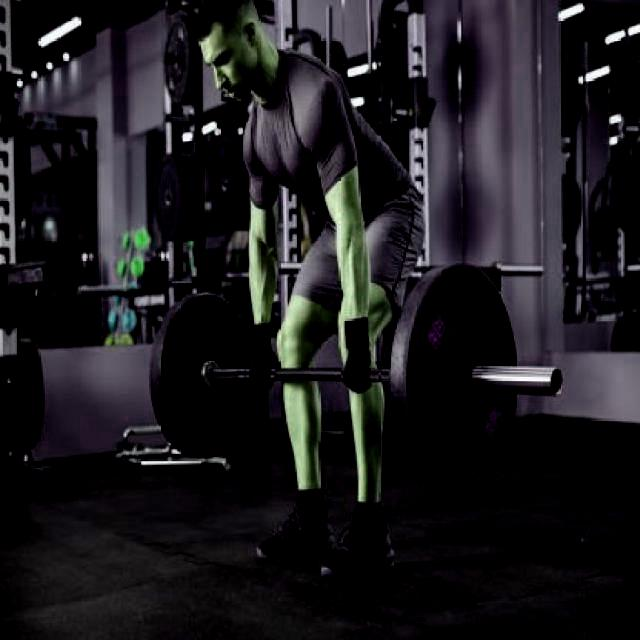barbell: (384, 250, 530, 500)
